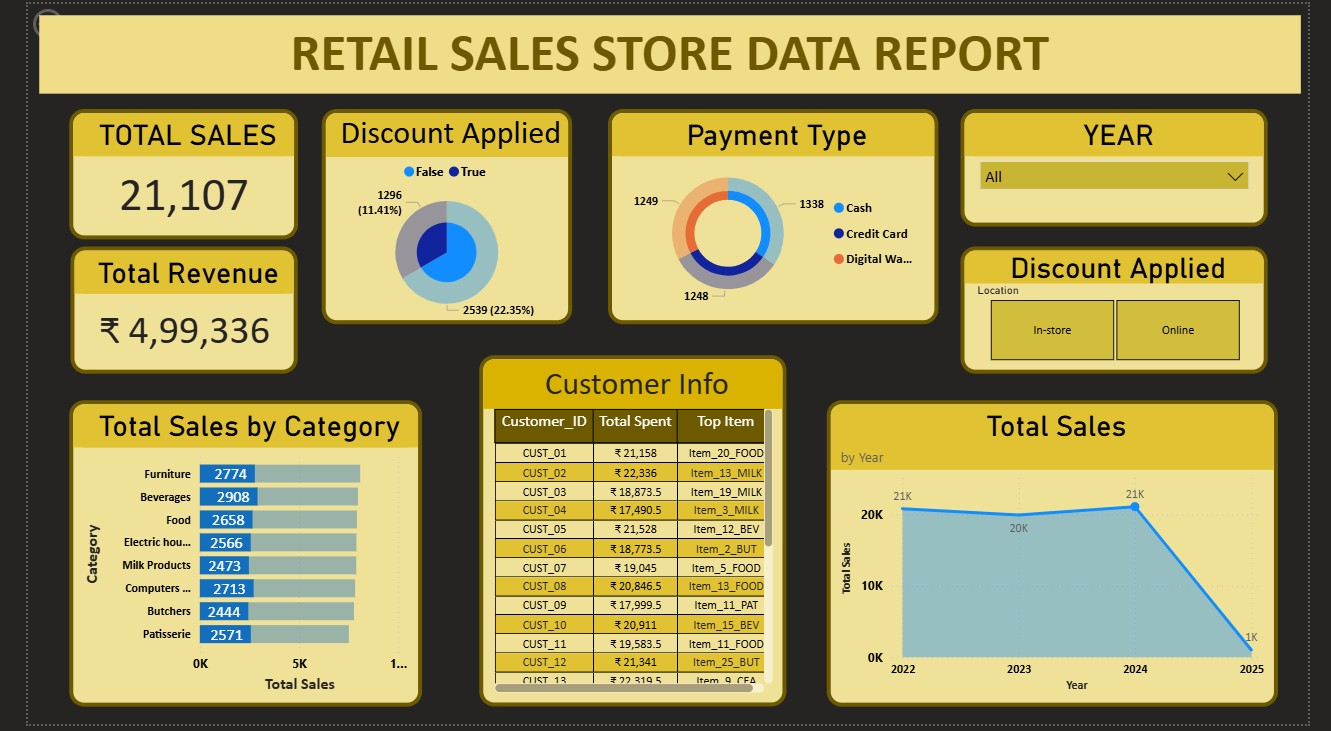

The dashboard page shown, as its layout file describes it:
{"tool":"powerbi","page":{"name":"Page 1","canvas":[1280,720],"ordinal":0},"visuals":[{"type":"card","title":"TOTAL SALES","fields":{"Values":["Retail_Cleaned.Total Sales"]},"box":[41.2,105,228.8,130],"z":0},{"type":"card","title":"Total Revenue","fields":{"Values":["Retail_Cleaned.Total Revenue"]},"box":[42.5,242.5,227.5,127.5],"z":1000},{"type":"clusteredBarChart","fields":{"Y":["Retail_Cleaned.Total Sales"],"Category":["Retail_Cleaned.Category"]},"box":[41.2,396.2,352.5,306.2],"z":2000},{"type":"lineChart","fields":{"Y":["Retail_Cleaned.Total Sales"],"Category":["Retail_Cleaned.Transaction_Date.Variation.Date Hierarchy.Year","Retail_Cleaned.Transaction_Date.Variation.Date Hierarchy.Quarter","Retail_Cleaned.Transaction_Date.Variation.Date Hierarchy.Month","Retail_Cleaned.Transaction_Date.Variation.Date Hierarchy.Day"]},"box":[798.8,396.2,451.2,306.2],"z":3000},{"type":"slicer","title":"YEAR","fields":{"Values":["Retail_Cleaned.Transaction_Date.Variation.Date Hierarchy.Year"]},"box":[932.5,105,307.5,117.5],"z":4000},{"type":"donutChart","title":"Payment Type","fields":{"Category":["Retail_Cleaned.Payment_Method"],"Y":["Retail_Cleaned.Payment count"]},"box":[580,105,330,215],"z":5000},{"type":"pieChart","title":"Discount Applied","fields":{"Category":["Retail_Cleaned.Discount_Applied"],"Y":["CountNonNull(Retail_Cleaned.Discount_Applied)"]},"box":[293.8,105,250,215],"z":6000},{"type":"slicer","title":"Discount Applied","fields":{"Values":["Retail_Cleaned.Location"]},"box":[932.5,242.5,307.5,127.5],"z":7000},{"type":"tableEx","title":"Customer Info","fields":{"Values":["Retail_Cleaned.Customer_ID","Sum(Retail_Cleaned.Total_Spent)","Retail_Cleaned.Top Item Customers"]},"box":[451.2,351.2,307.5,351.2],"z":8000},{"type":"actionButton","box":[0,0,100,40],"z":9000},{"type":"textbox","box":[11.2,11.2,1261.2,78.8],"z":10000}]}

Visuals, with their boxes in screenshot pixels (x1, y1, x2, y2), scaled from the page's 1280x720 canvas onto the 1331x731 screenshot:
"TOTAL SALES" card: [43,107,281,239]
"Total Revenue" card: [44,246,281,376]
clusteredBarChart - Retail_Cleaned.Total Sales x Retail_Cleaned.Category: [43,402,409,713]
lineChart - Retail_Cleaned.Total Sales x Retail_Cleaned.Transaction_Date.Variation.Date Hierarchy.Year: [831,402,1300,713]
"YEAR" slicer: [970,107,1289,226]
"Payment Type" donutChart: [603,107,946,325]
"Discount Applied" pieChart: [306,107,565,325]
"Discount Applied" slicer: [970,246,1289,376]
"Customer Info" tableEx: [469,357,789,713]
actionButton: [0,0,104,41]
textbox: [12,11,1323,91]
